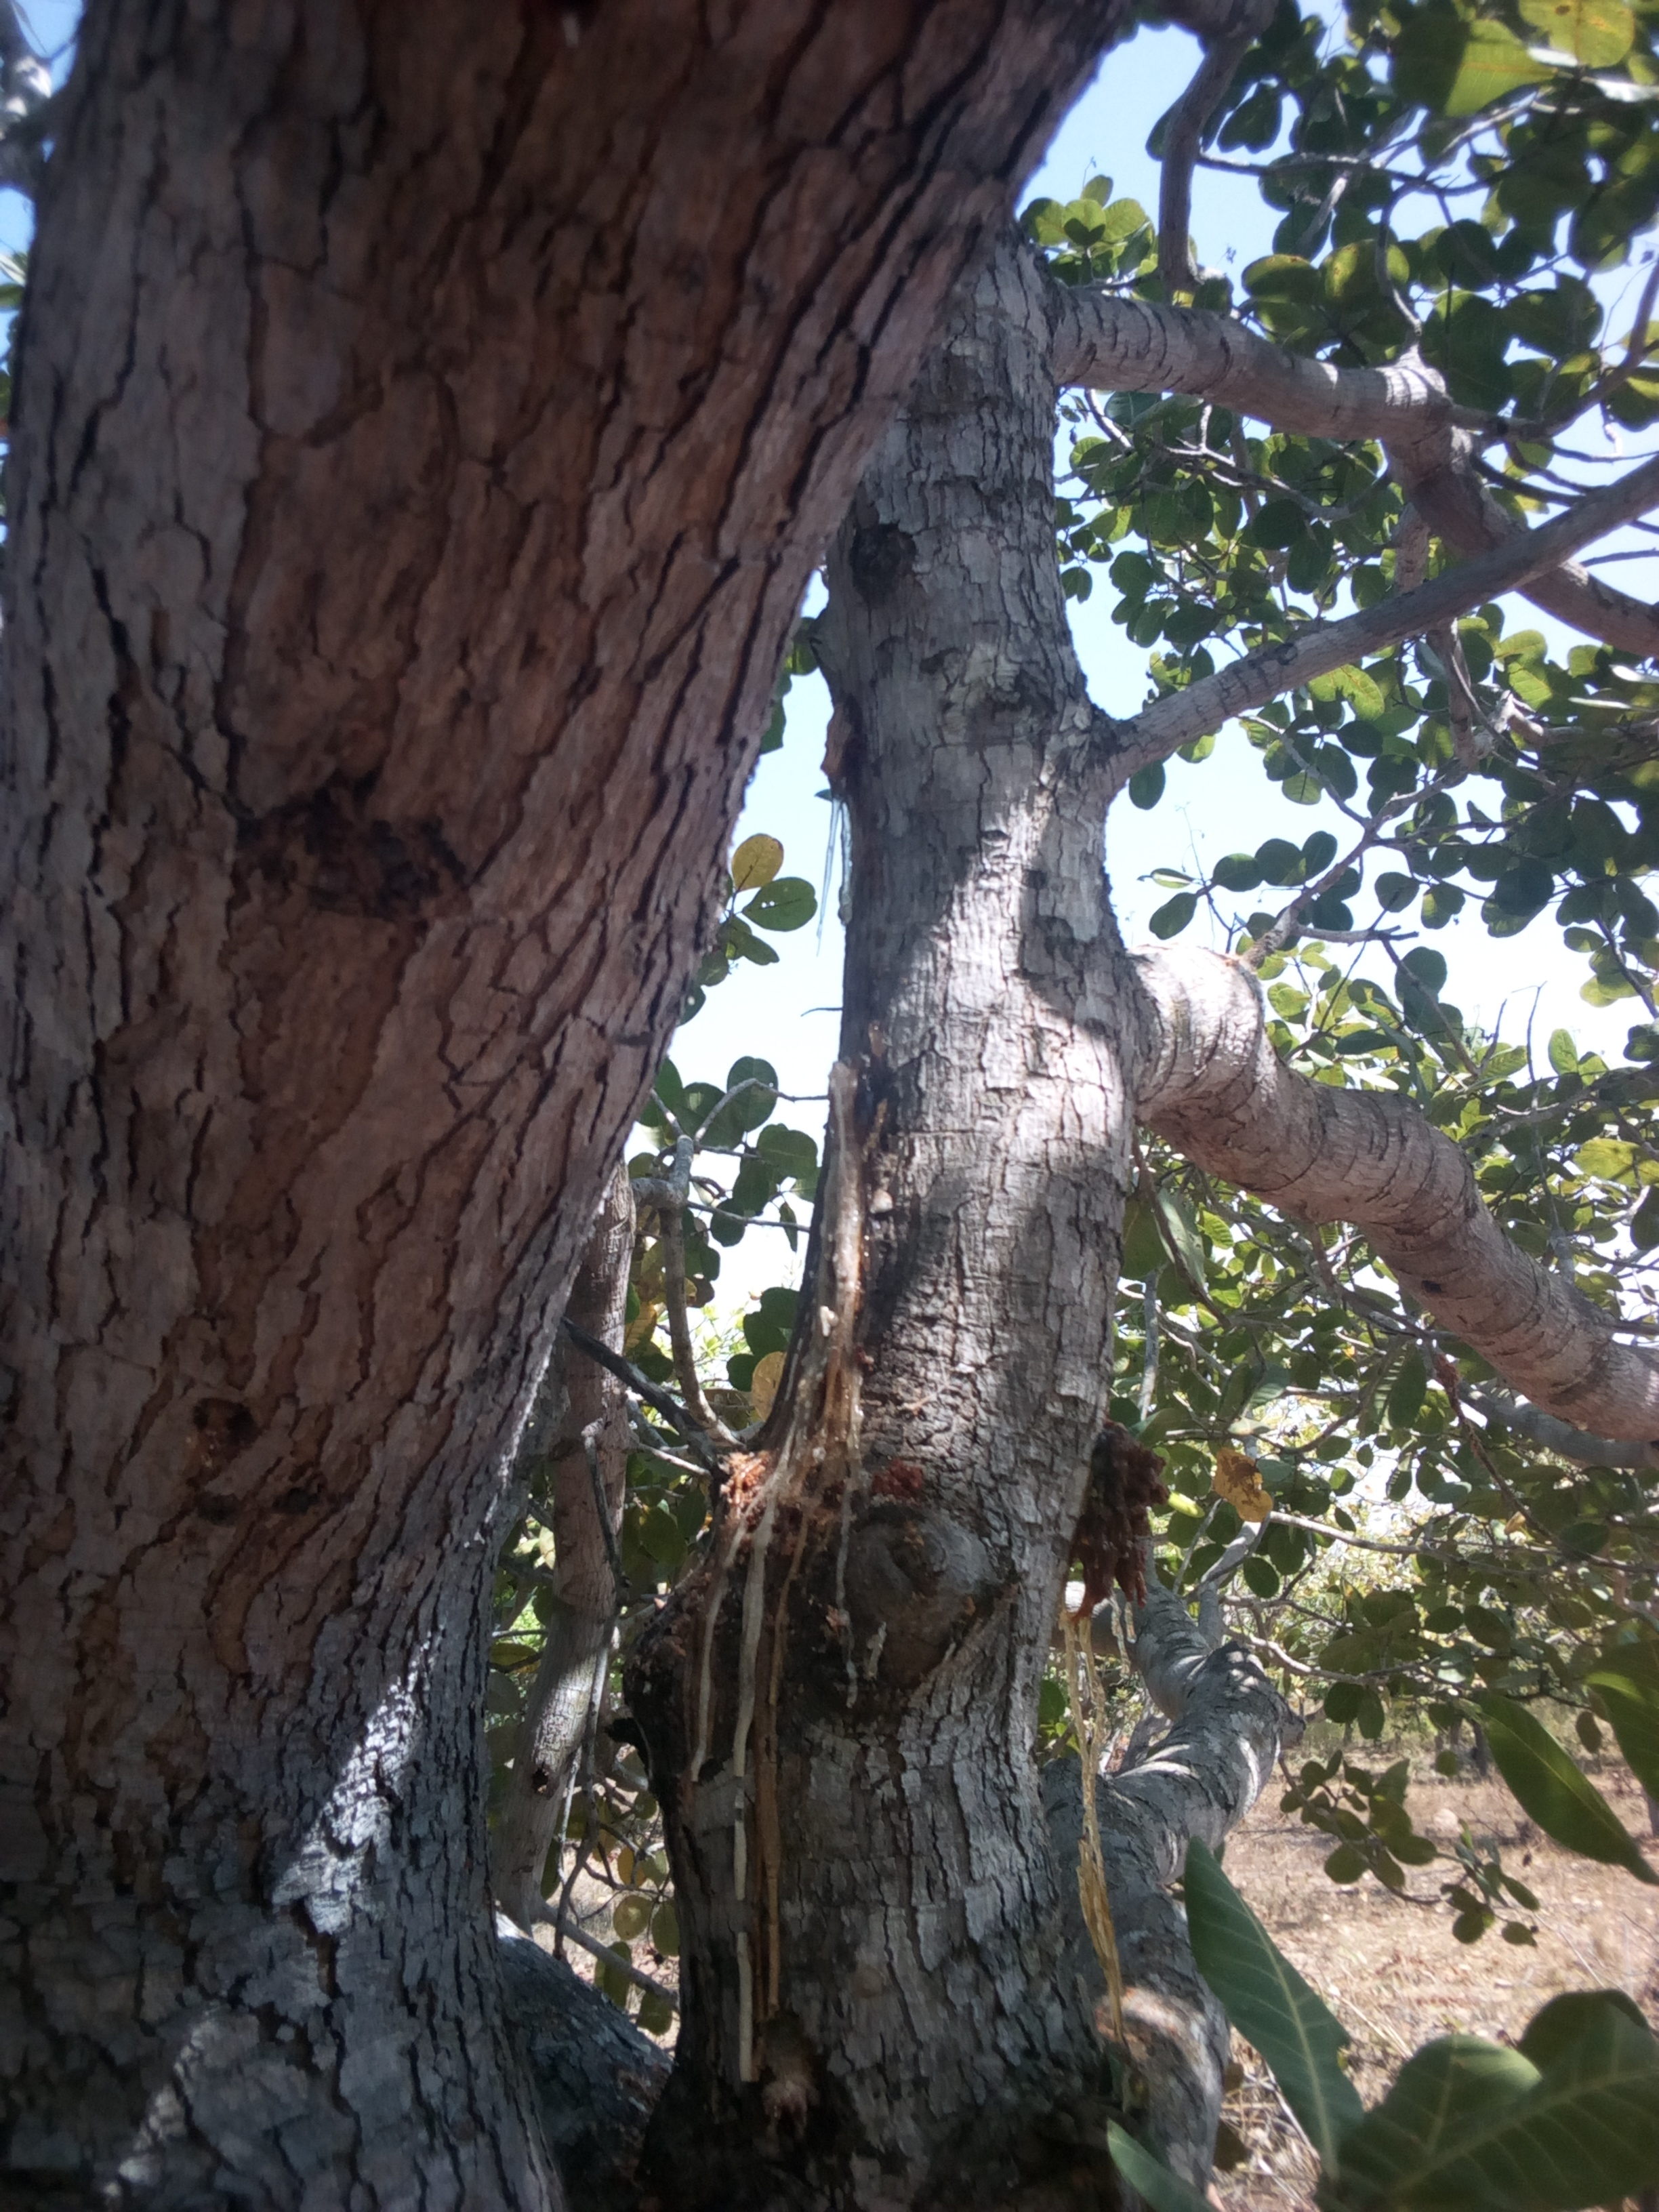Apate terebrans: (633, 1045, 1009, 2109)
